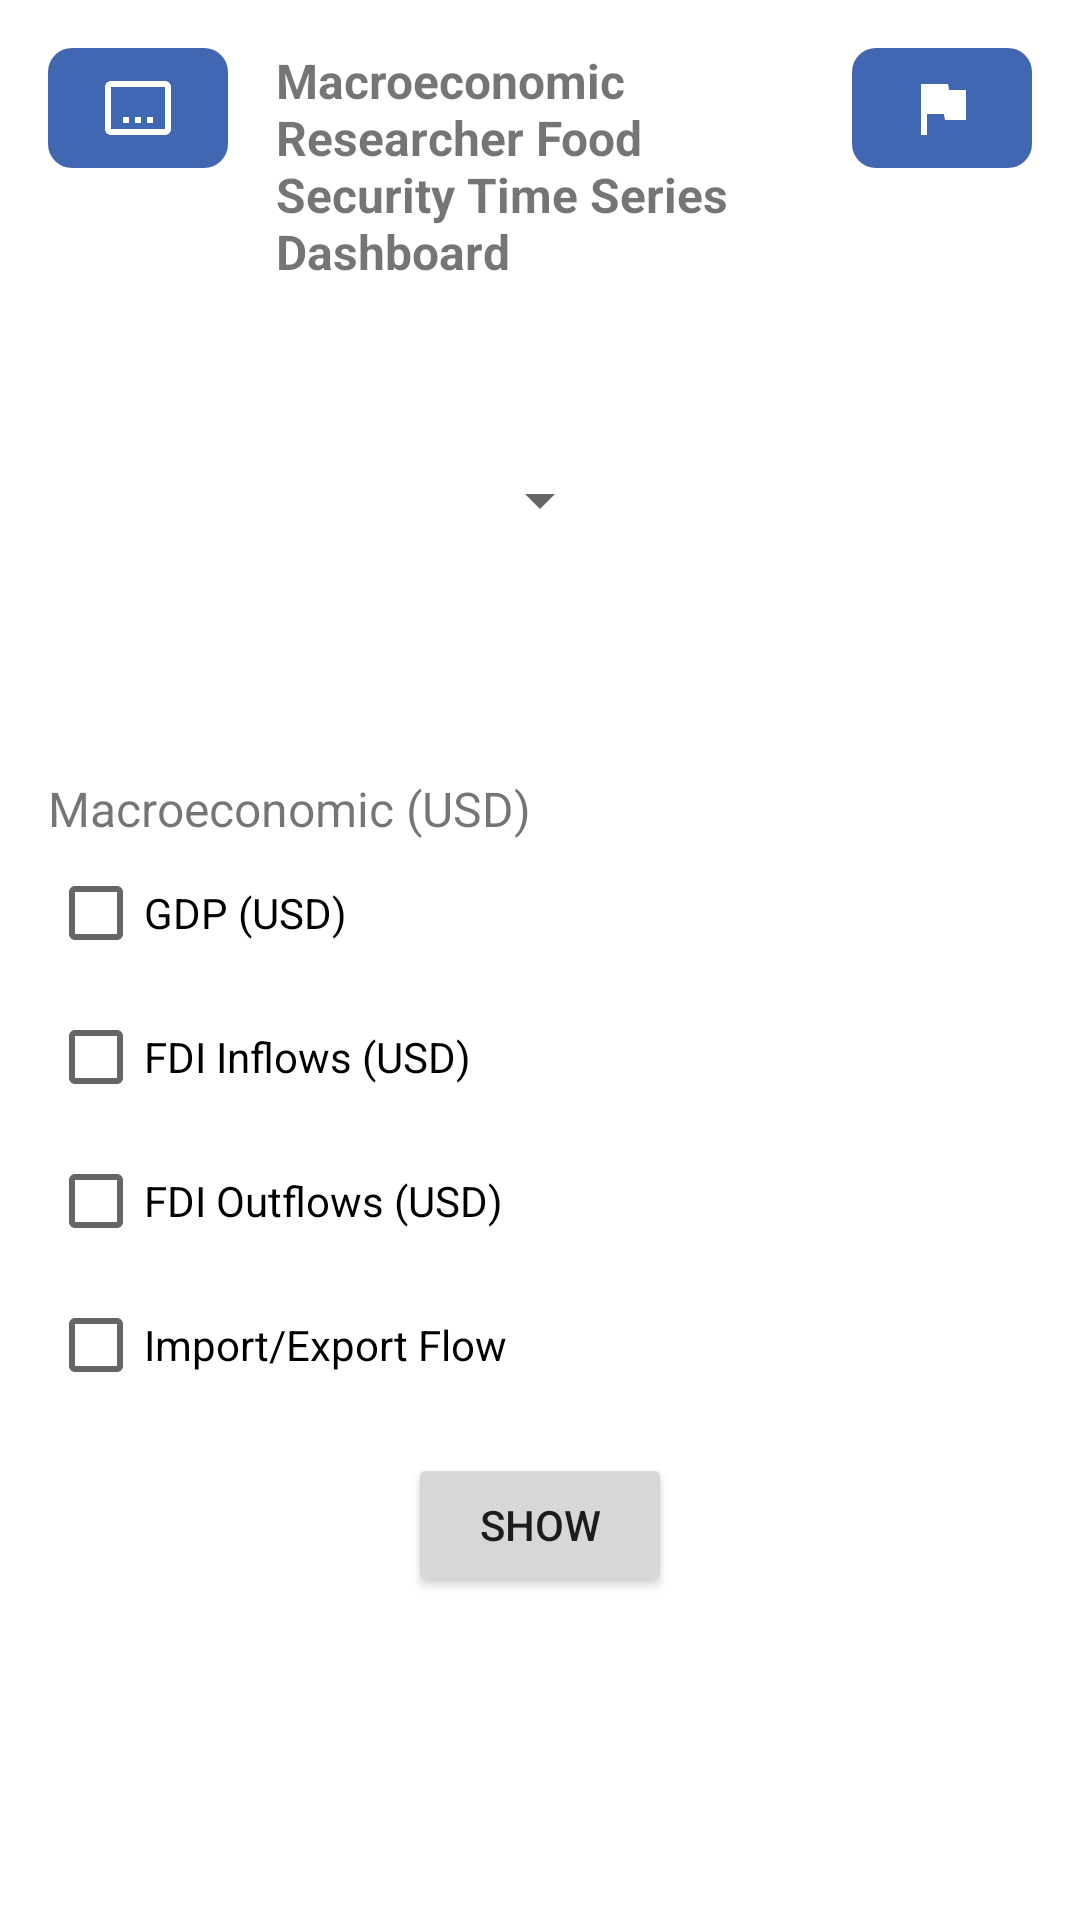

Named icons in this screenshot (1080px×1920px) and their bounding boxes, (x1, y1, x2, y2):
flag: (852, 48, 1032, 168)
